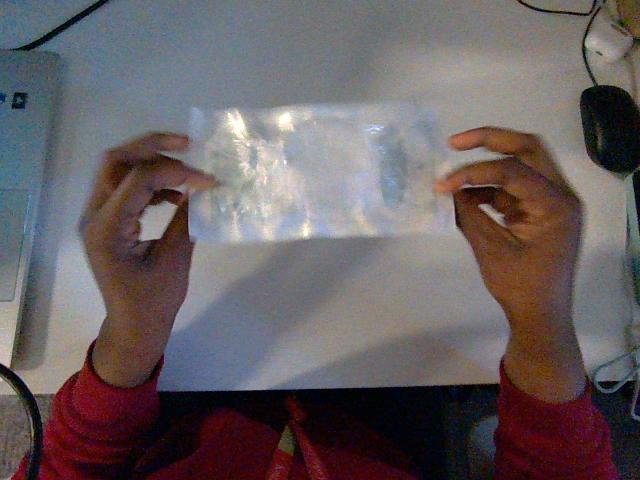gallipot: (189, 103, 453, 242)
